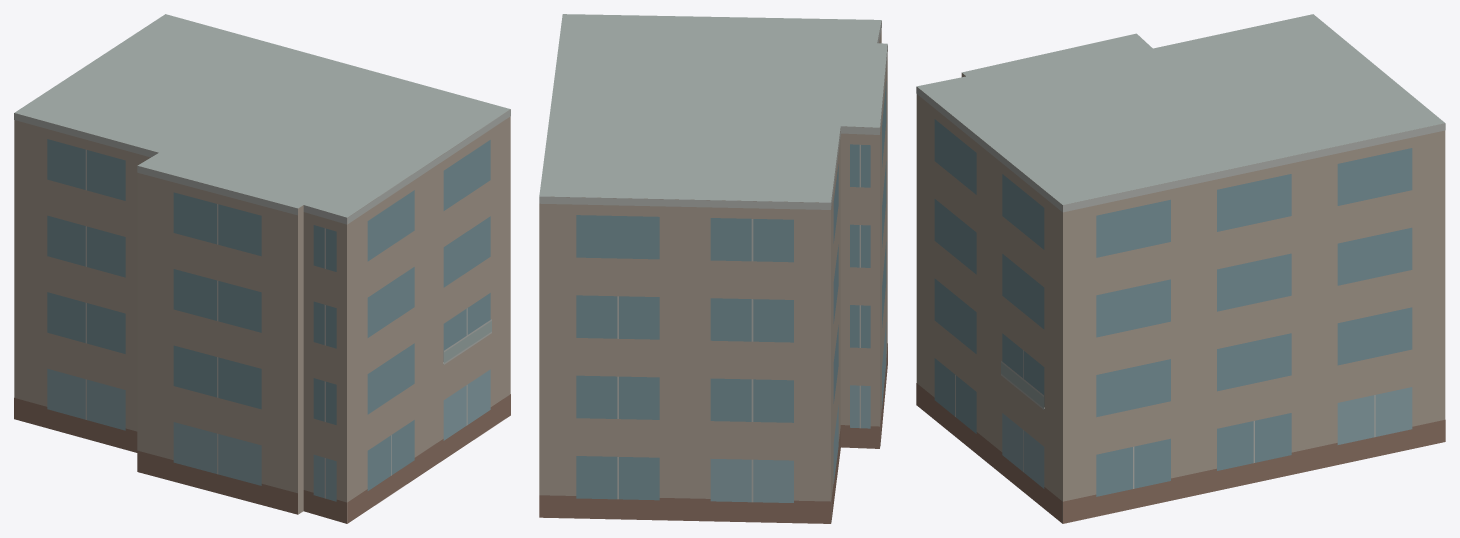
The model's file is survey-upis-33042161.glb.
3 views of the same model, side by side, from view 1: azimuth 30°, elevation 25°; view 2: azimuth 150°, elevation 25°; view 3: azimuth 270°, elevation 25° (orthographic). The views are drawn at different scales.
Visible parts, largest first — view 1: survey-upis-33042161.tmp; view 2: survey-upis-33042161.tmp; view 3: survey-upis-33042161.tmp.
Boxes of the visible parts, left/top/right/bottom form: survey-upis-33042161.tmp: left=14, top=14, right=510, bottom=523; survey-upis-33042161.tmp: left=539, top=14, right=887, bottom=523; survey-upis-33042161.tmp: left=916, top=14, right=1445, bottom=523.
Bounding box in the file's own units: 13.77 × 10.7 × 16.1.
